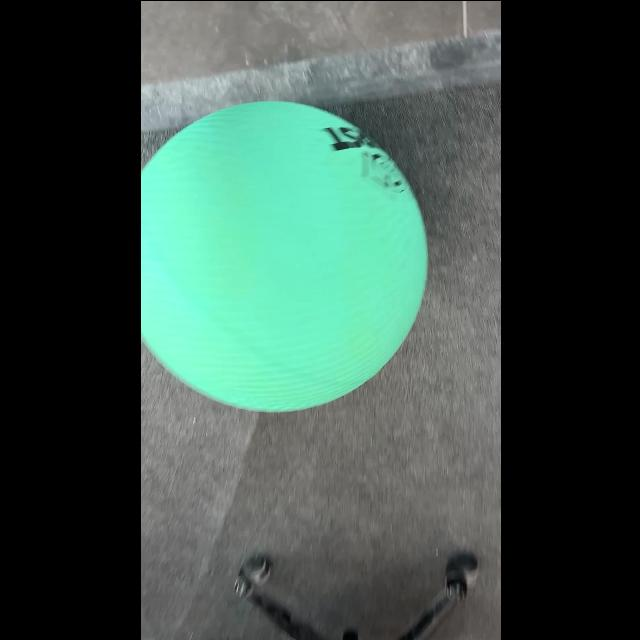ALGAE: (142, 99, 428, 413)
